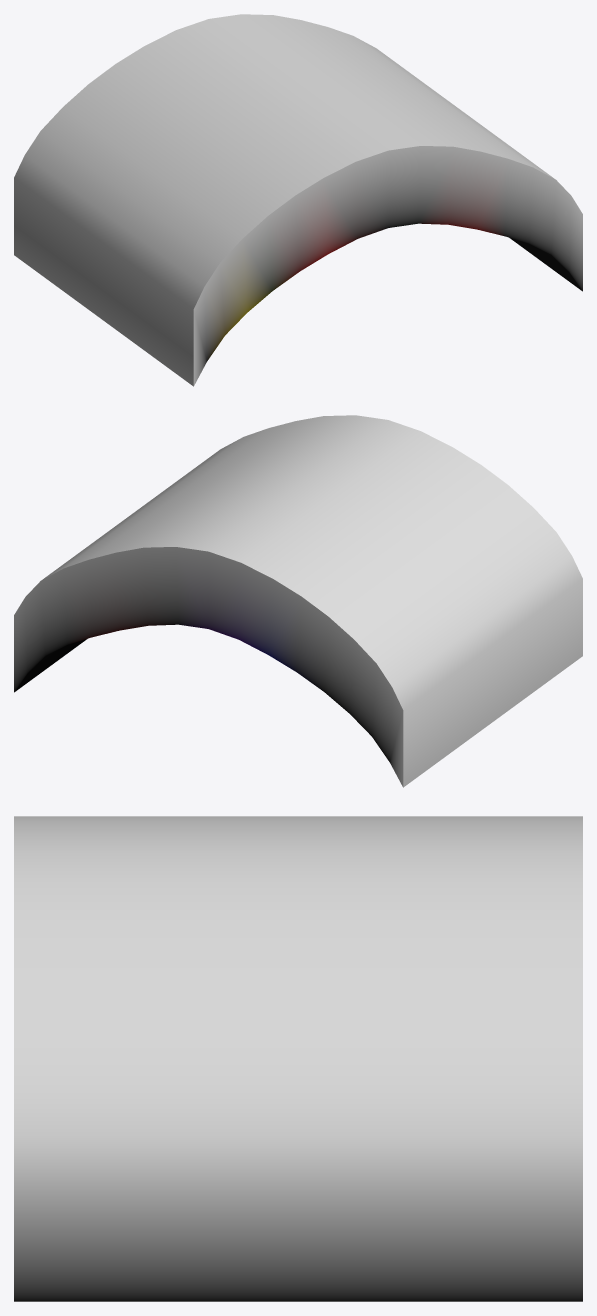
Rendered from SM_Roof_Arc_Crypt_Var_02.fbx.
3 renders of one model, top to bottom at view 1: azimuth 30°, elevation 25°; view 2: azimuth 150°, elevation 25°; view 3: azimuth 270°, elevation 25°, orthographic. The views are drawn at different scales.
Visible parts, largest first — view 1: SM_Roof_Arc_Crypt_Var_02_LOD0; view 2: SM_Roof_Arc_Crypt_Var_02_LOD0; view 3: SM_Roof_Arc_Crypt_Var_02_LOD0.
Part boxes in pixels (x1,y1,x2,y2): SM_Roof_Arc_Crypt_Var_02_LOD0: [14, 14, 582, 386]; SM_Roof_Arc_Crypt_Var_02_LOD0: [14, 415, 582, 787]; SM_Roof_Arc_Crypt_Var_02_LOD0: [14, 816, 582, 1301].
Size of the model in its own units: 500 by 400 by 232.
